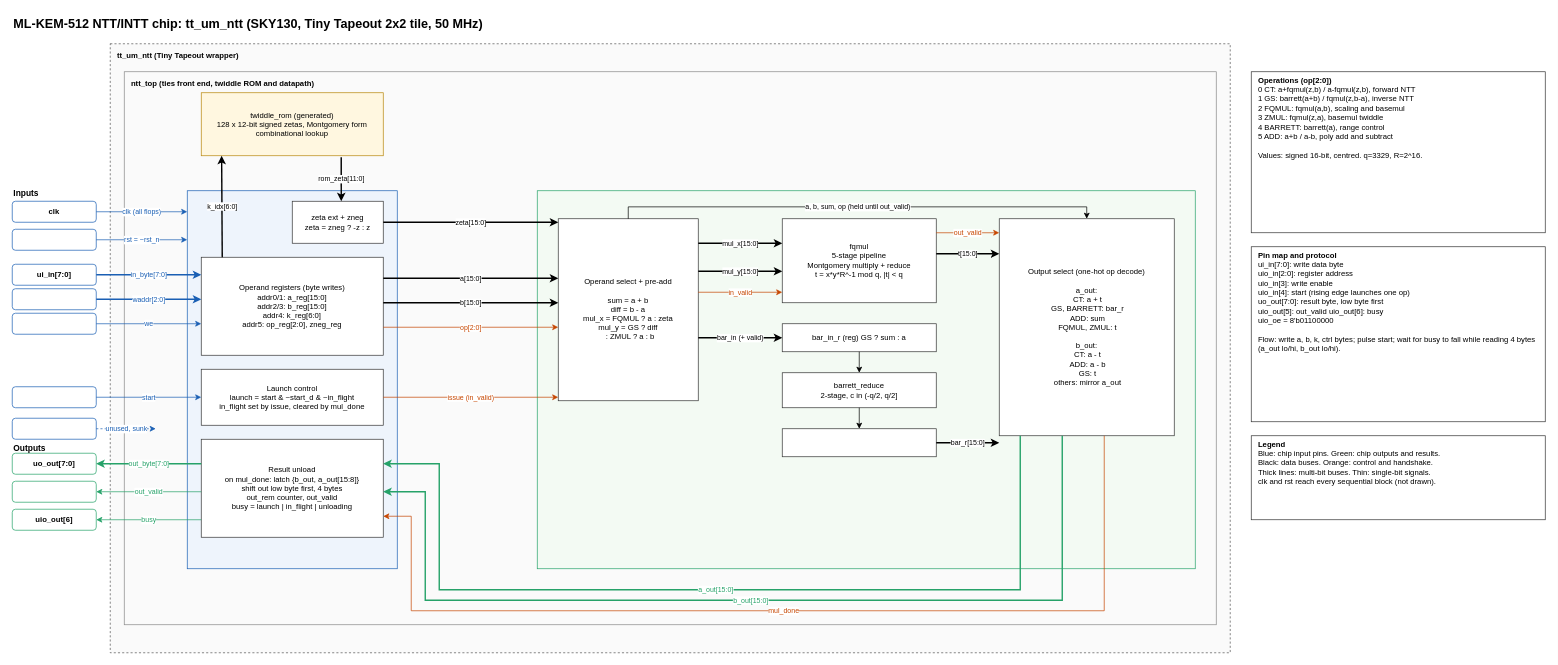
Some shapes in this 1558 by 665 pixel diagram are drawn without their labels. Here are the shapes that lost their labels. From the top down, the box of each, then its label:
(12, 229, 96, 250): rst_n
(12, 288, 96, 310): uio_in[2:0]
(12, 313, 96, 334): uio_in[3]
(12, 386, 96, 408): uio_in[4]
(187, 190, 397, 569): ntt_io (byte-serial front end)
(537, 190, 1195, 569): butterfly (datapath: 6 ops, uniform 5-clock latency)
(12, 418, 96, 439): ena
(782, 428, 936, 457): bar_r (hold reg, until read)
(12, 481, 96, 502): uio_out[5]
